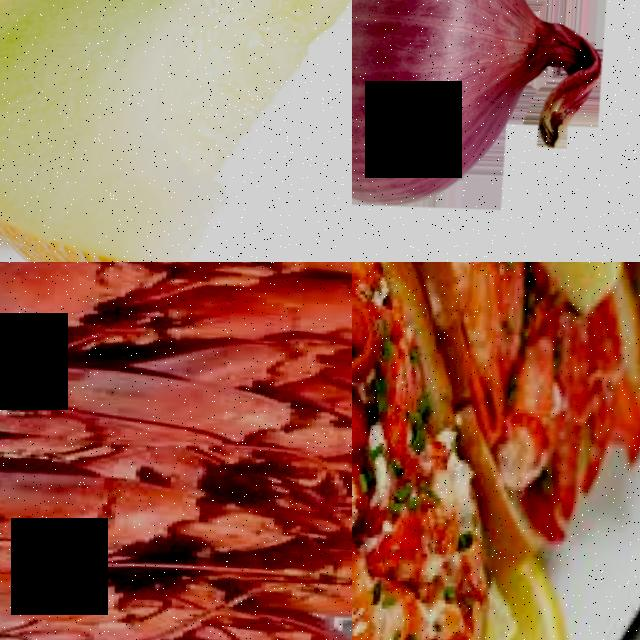lemon: (494, 262, 636, 320)
melon: (0, 0, 352, 262)
onion: (352, 0, 619, 259)
